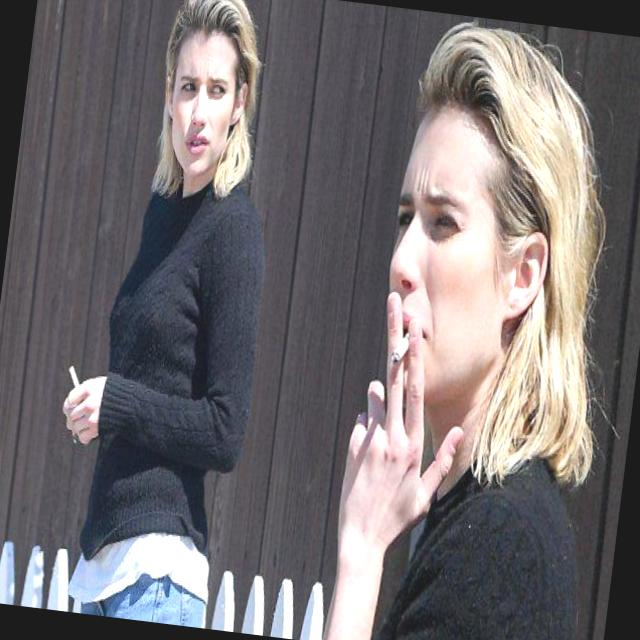cigarette: (384, 312, 422, 377), (65, 342, 98, 408)
